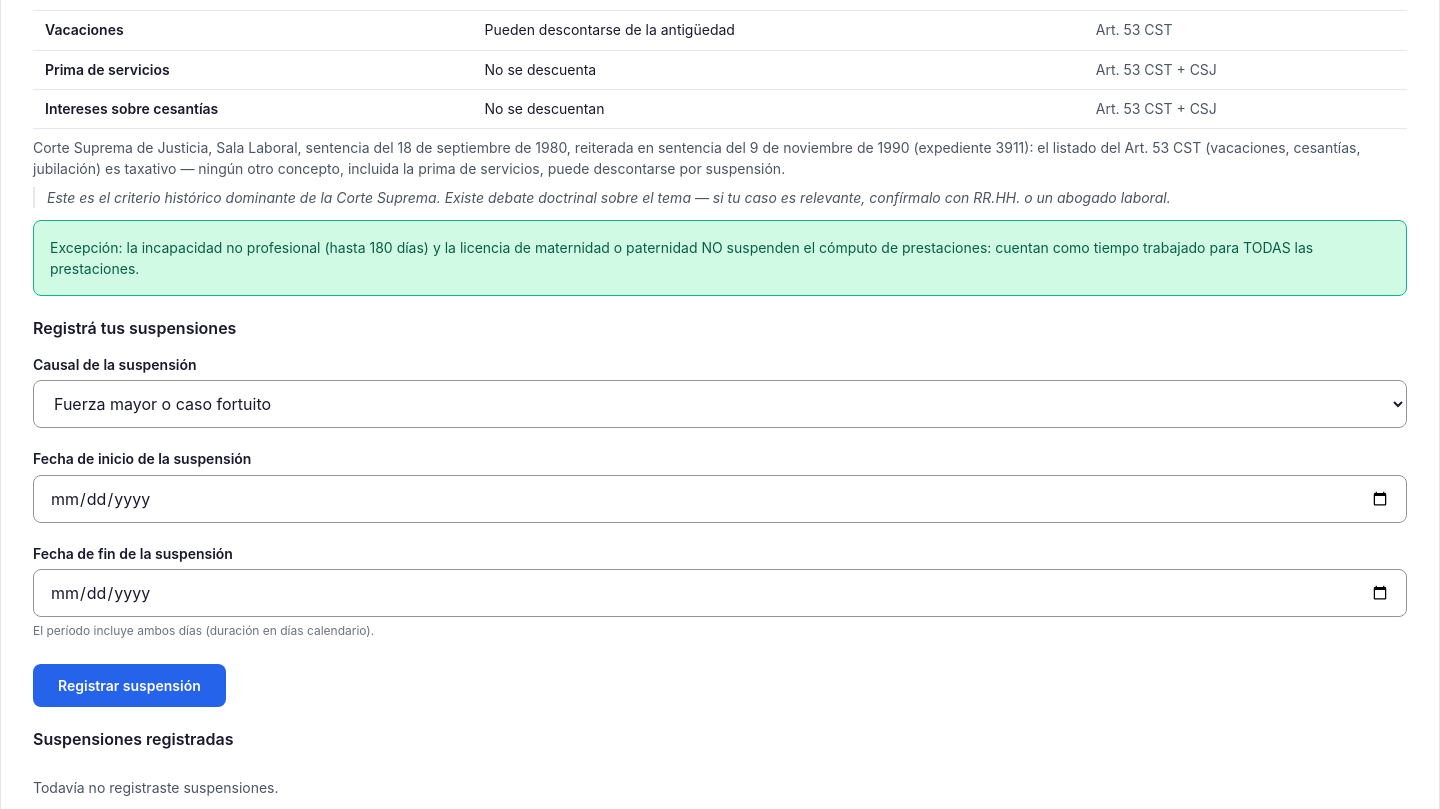
Test: SuspensionSection — registry CRUD + persistence (REQ-4) › deletes a record and removes it from the list and from localStorage
The width and height of the screenshot is (1440, 809).
(page scrolled)
Select "Fuerza mayor o caso fortuito" in the dropdown labelled "Causal de la suspensión". click: (720,404)
box: [33,380,1407,428]
Type "2026-01-01" into the date field labelled "Fecha de inicio de la suspensión". click: (720,499)
box: [33,475,1407,523]
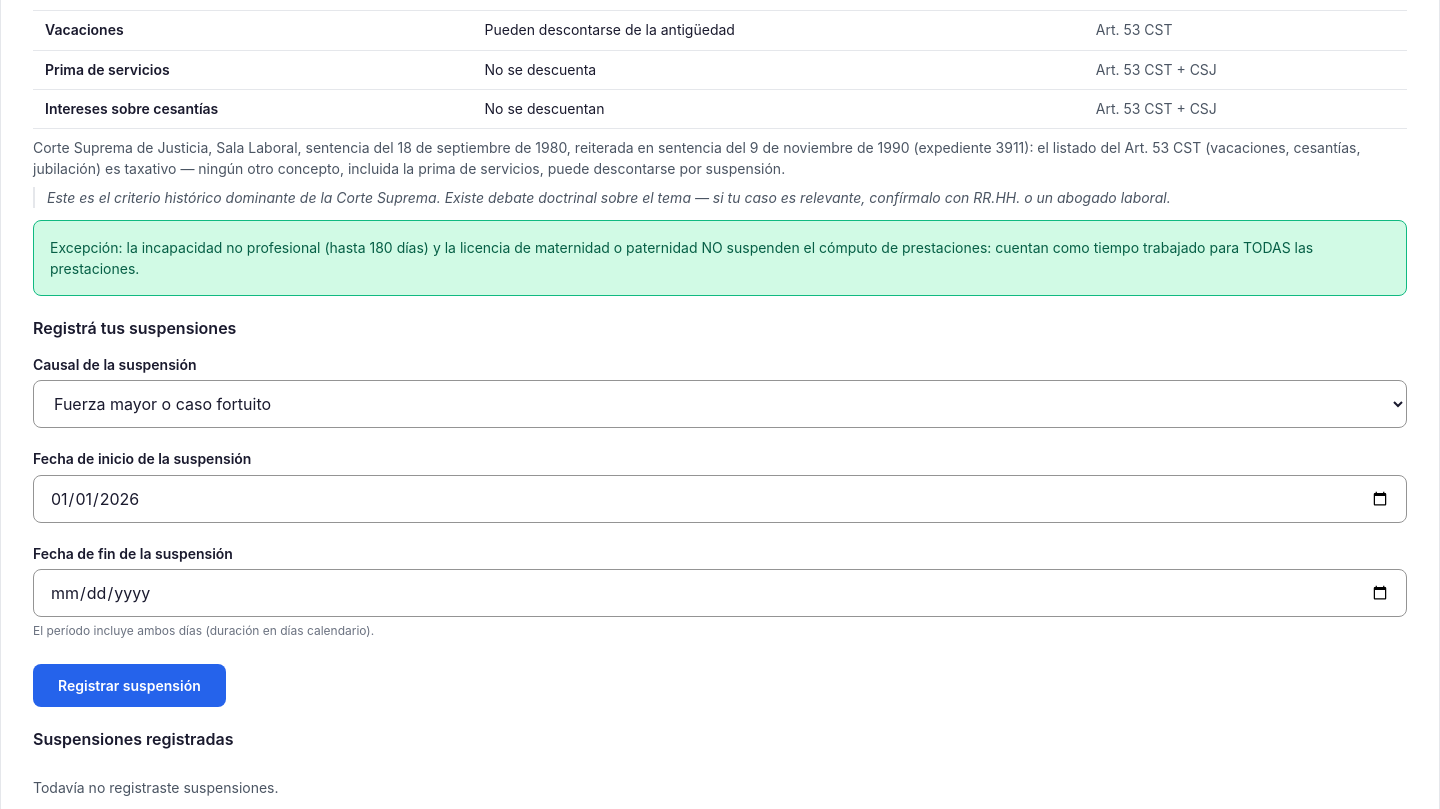
Type "2026-01-05" into the date field labelled "Fecha de fin de la suspensión". click: (720,593)
box: [33,569,1407,617]
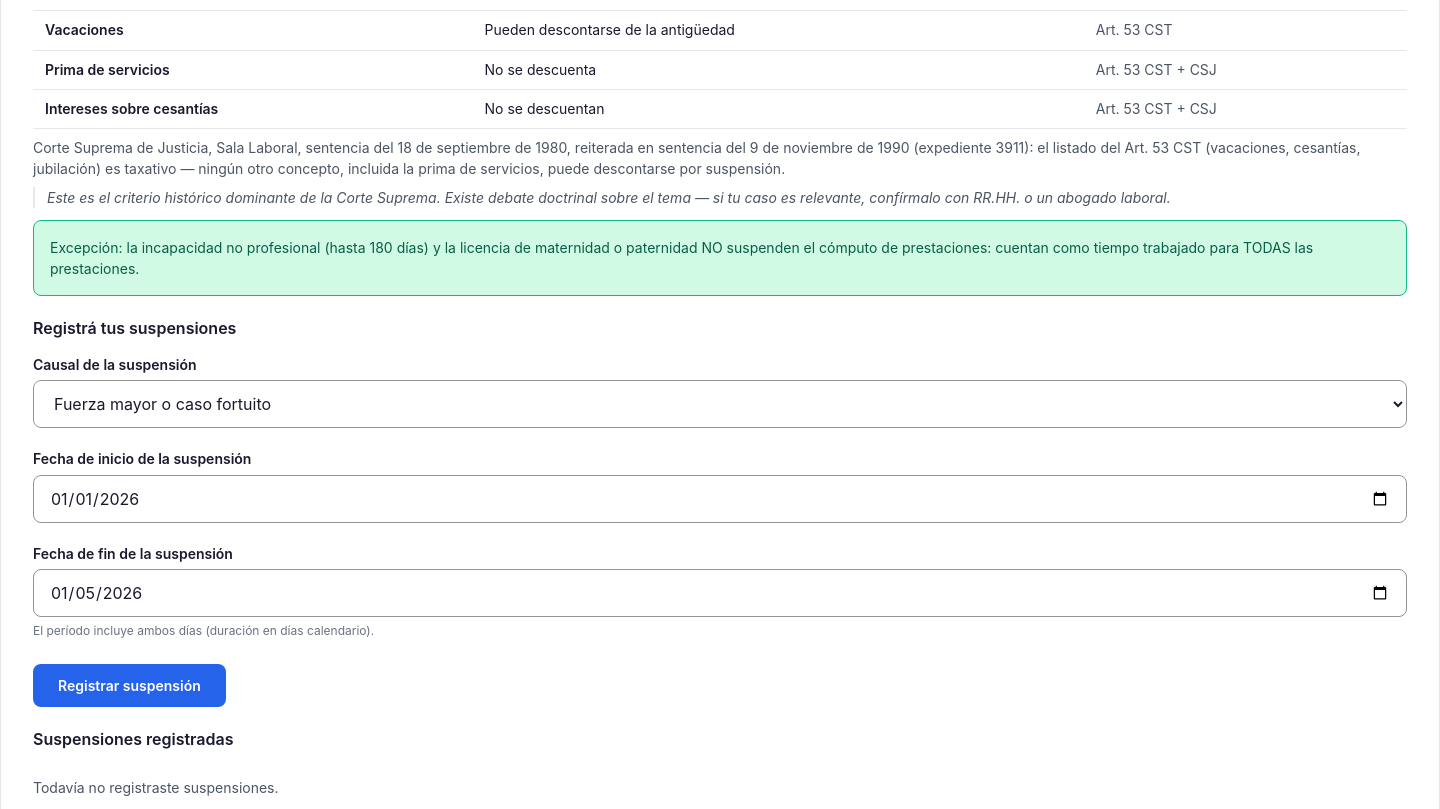
Click the button "Registrar suspensión". click: (129,686)
box: [33,664,226,707]
(page scrolled)
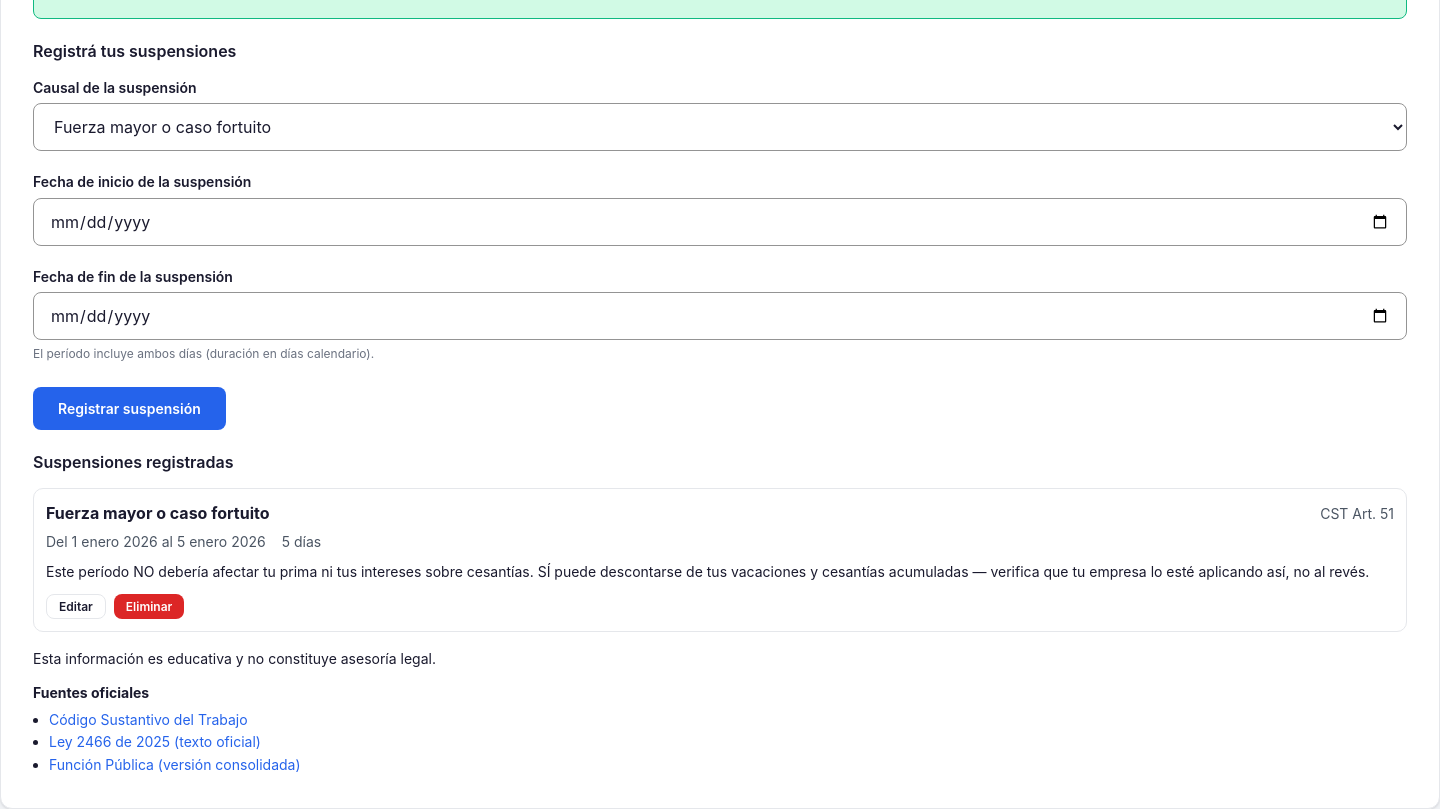
Click the button "Eliminar". click: (149,606)
box: [114,594,184,619]
(page scrolled)
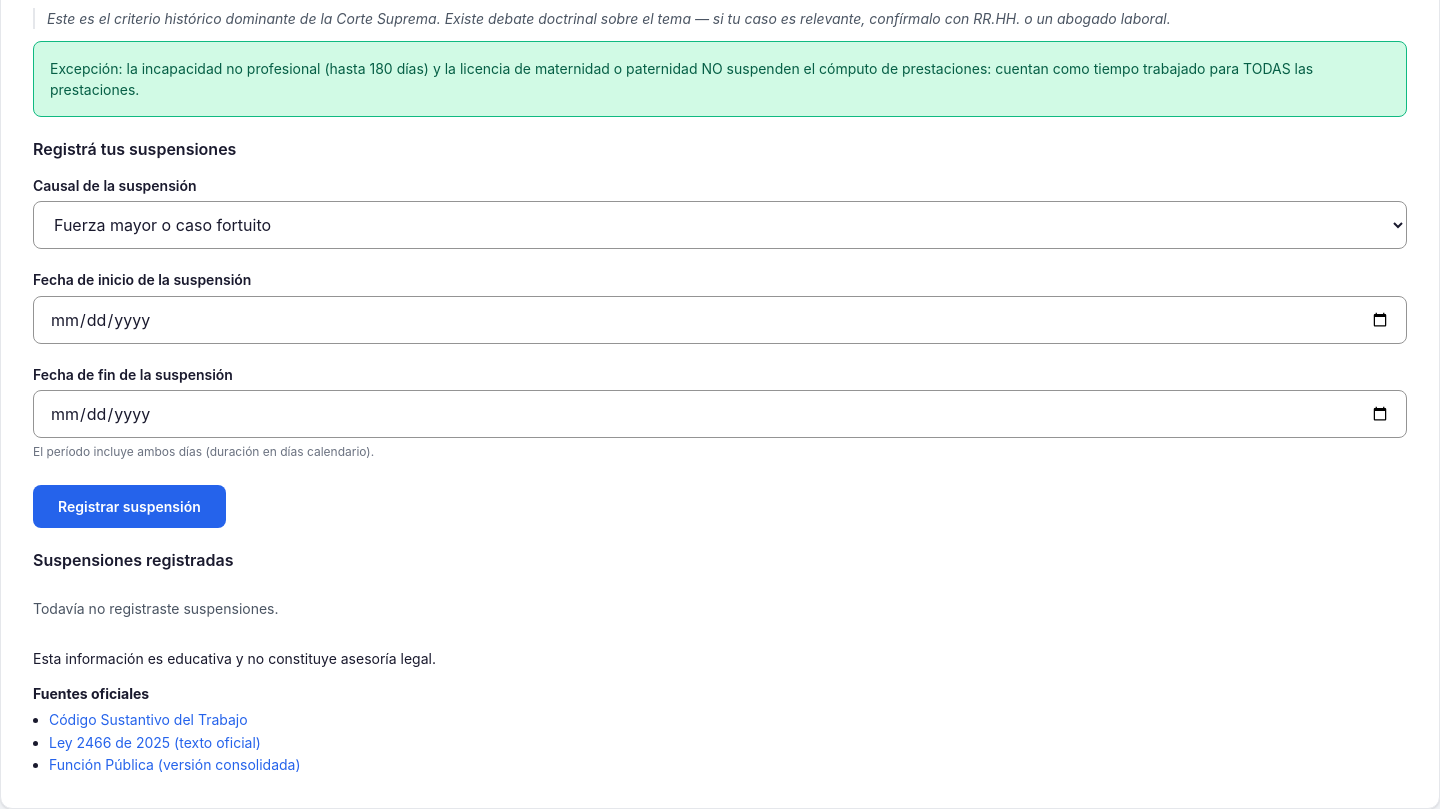
Check: the text "Todavía no registraste suspensiones." is shown, box [33,600,278,617]
